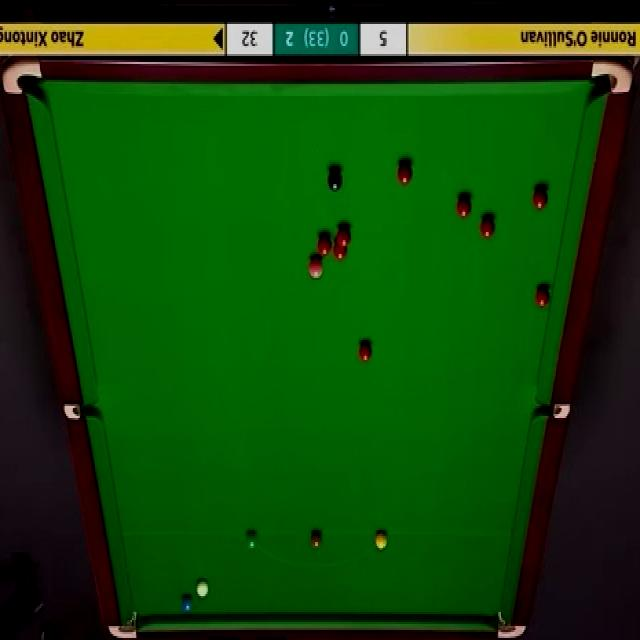black-ball: (326, 169, 342, 192)
blue-ball: (182, 592, 192, 613)
brown-ball: (310, 531, 323, 548)
green-ball: (244, 528, 258, 552)
pink-ball: (308, 260, 325, 276)
red-ball: (396, 163, 414, 187), (335, 226, 353, 250), (332, 238, 350, 262), (532, 184, 548, 210), (479, 213, 495, 239), (455, 193, 472, 217), (316, 233, 332, 256), (535, 288, 550, 310), (358, 343, 374, 362)
white-ball: (196, 578, 209, 598)
yellow-ball: (374, 530, 388, 551)
